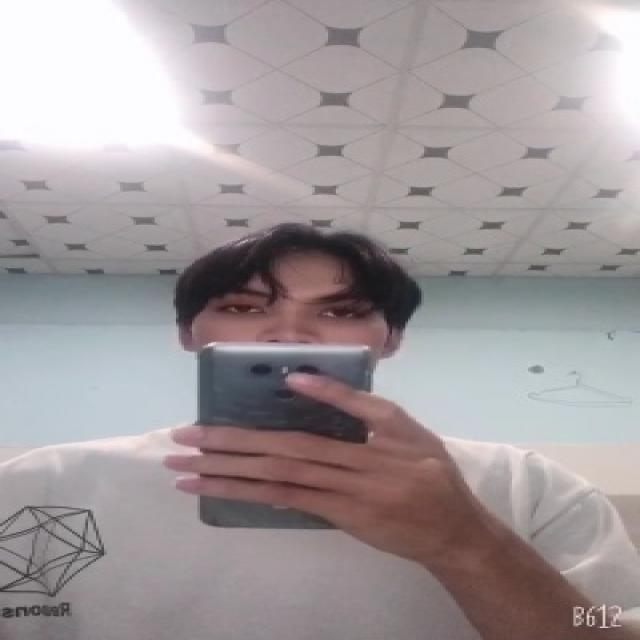Phone: (197, 339, 377, 533)
